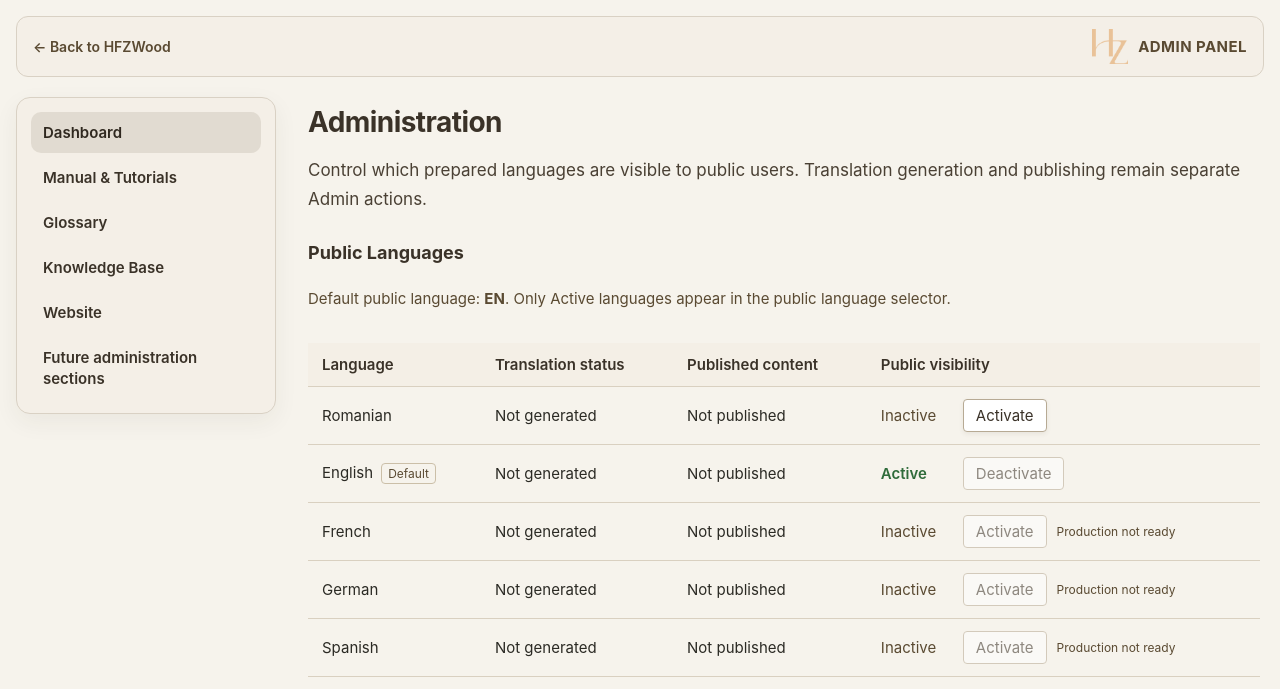
Test: Admin Public Languages dashboard › activates and deactivates a non-default language
This screenshot has width=1280, height=689.
Click the 1st button "Activate": coordinates (1005, 415) top-left (963, 398), bottom-right (1047, 432)
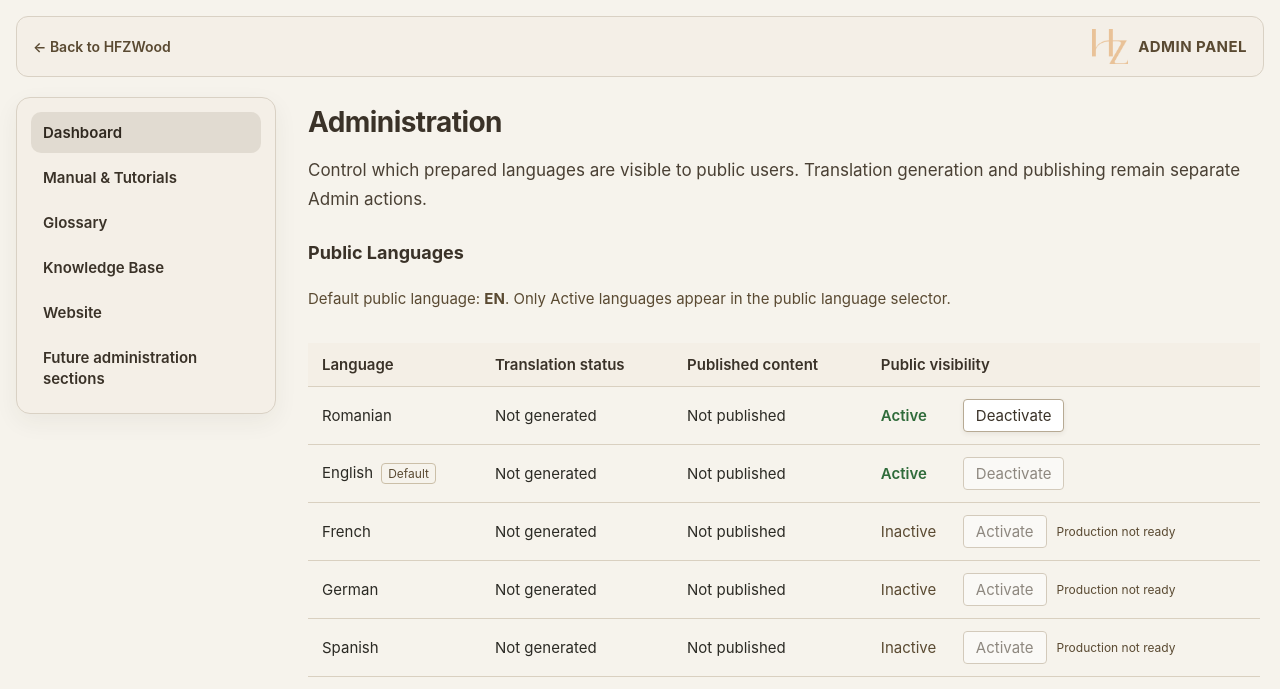
Expected: the 1st text "Active" is shown, top-left (881, 406), bottom-right (927, 424)
Expected: the 1st button "Deactivate" is shown
Click the 1st button "Deactivate": coordinates (1014, 415) top-left (963, 398), bottom-right (1064, 432)
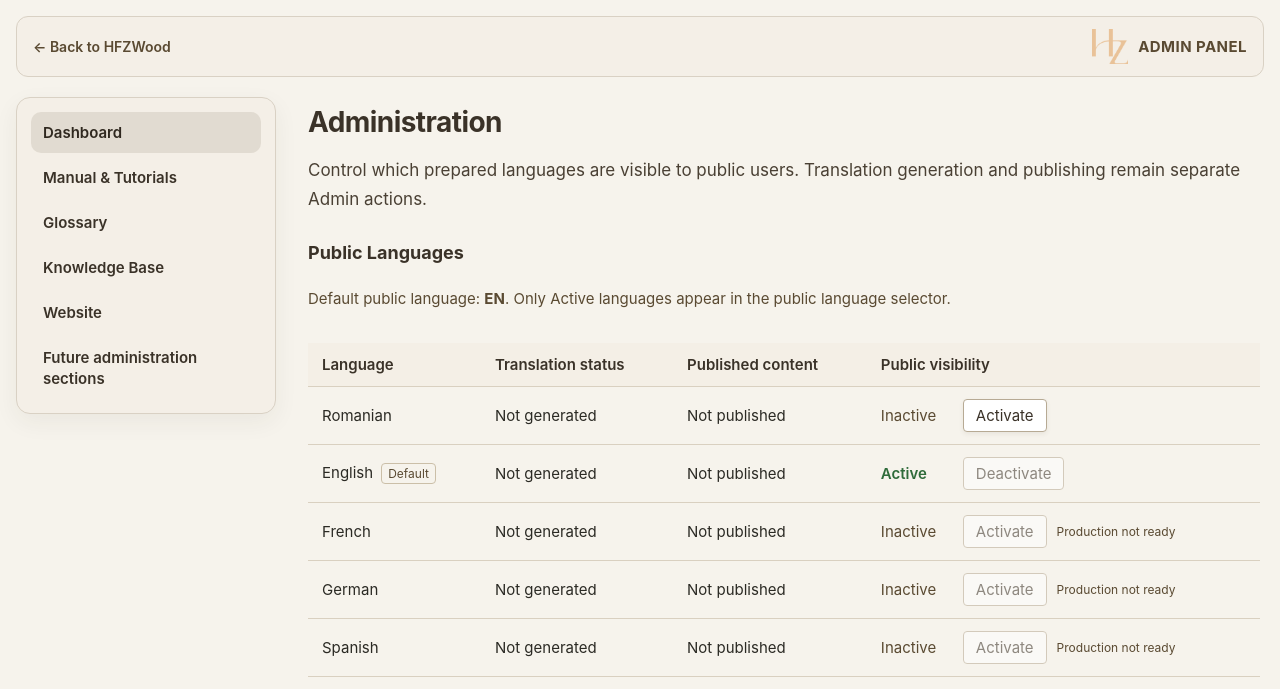
Expected: the 1st button "Activate" is shown, top-left (963, 398), bottom-right (1047, 432)
Expected: the 1st text "Inactive" is shown, top-left (881, 406), bottom-right (936, 424)
